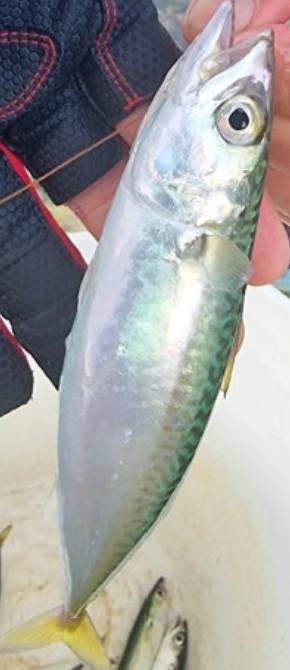fish: (0, 1, 273, 669)
